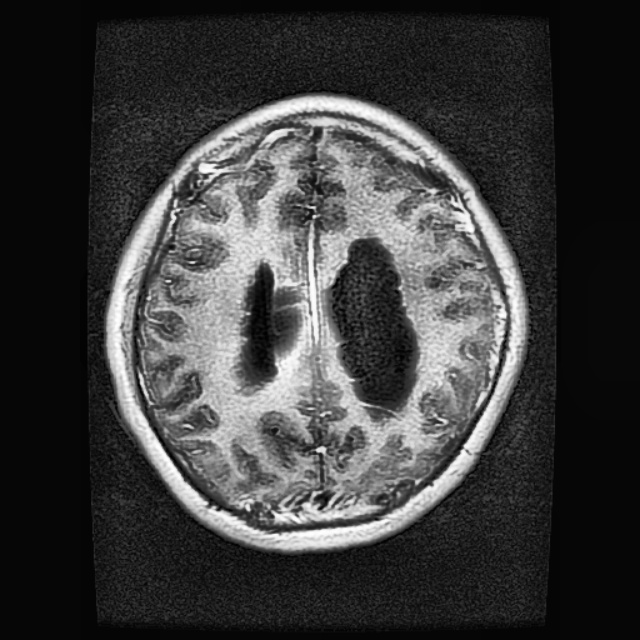Glioma: (327, 243, 420, 407)
